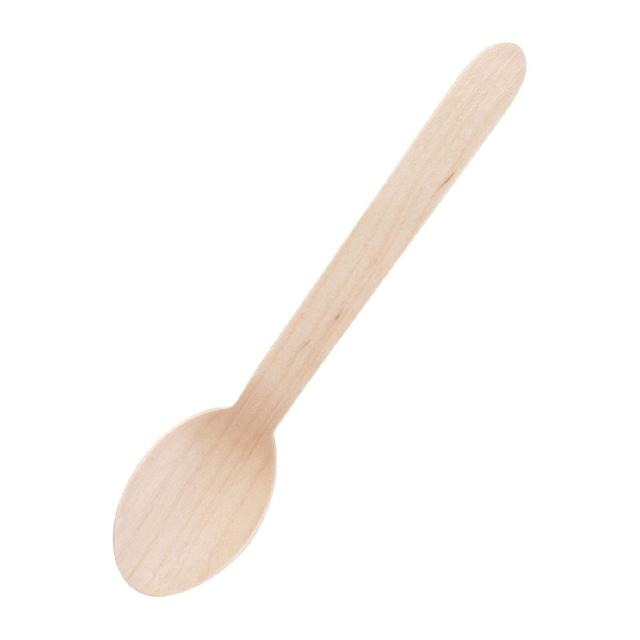spoon: (100, 22, 554, 623)
